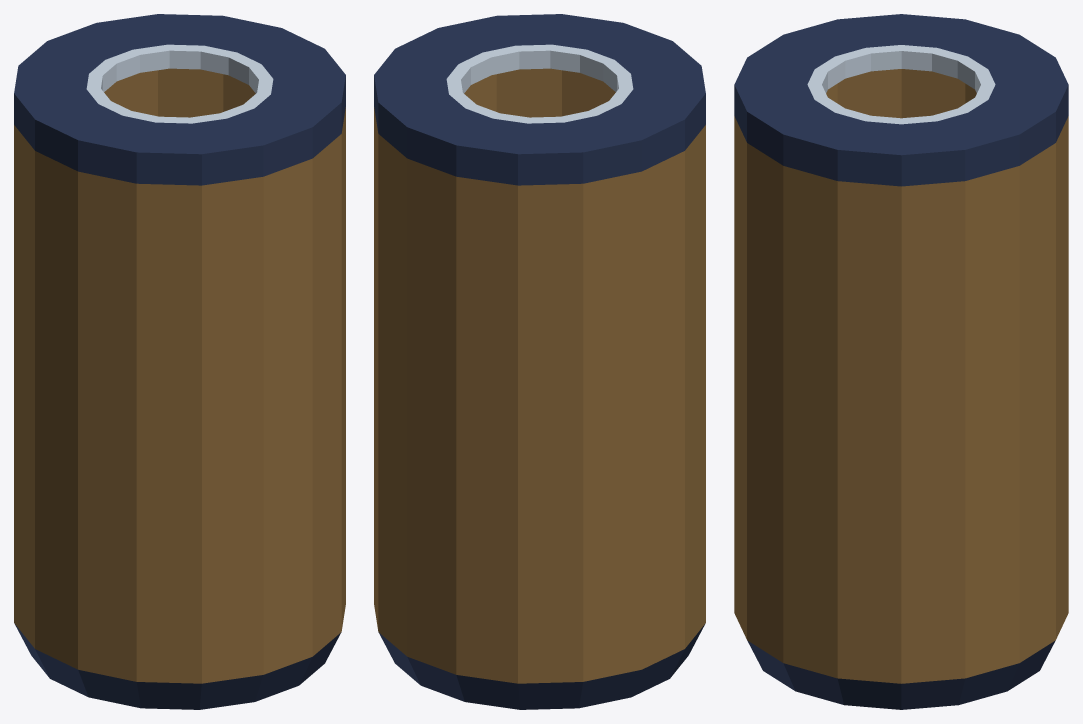
Rendered from TrashBinModel07.fbx.
The picture shows the model from 3 angles, left to right: view 1: azimuth 30°, elevation 25°; view 2: azimuth 150°, elevation 25°; view 3: azimuth 270°, elevation 25°; orthographic projection.
Parts seen in each view (by area): view 1: TrashBin07; view 2: TrashBin07; view 3: TrashBin07.
Part boxes in pixels (left/top/right/bottom): TrashBin07: left=14, top=14, right=345, bottom=709; TrashBin07: left=374, top=14, right=705, bottom=709; TrashBin07: left=734, top=14, right=1068, bottom=709.
Bounding box in the file's own units: 68.35 × 127 × 68.35.
